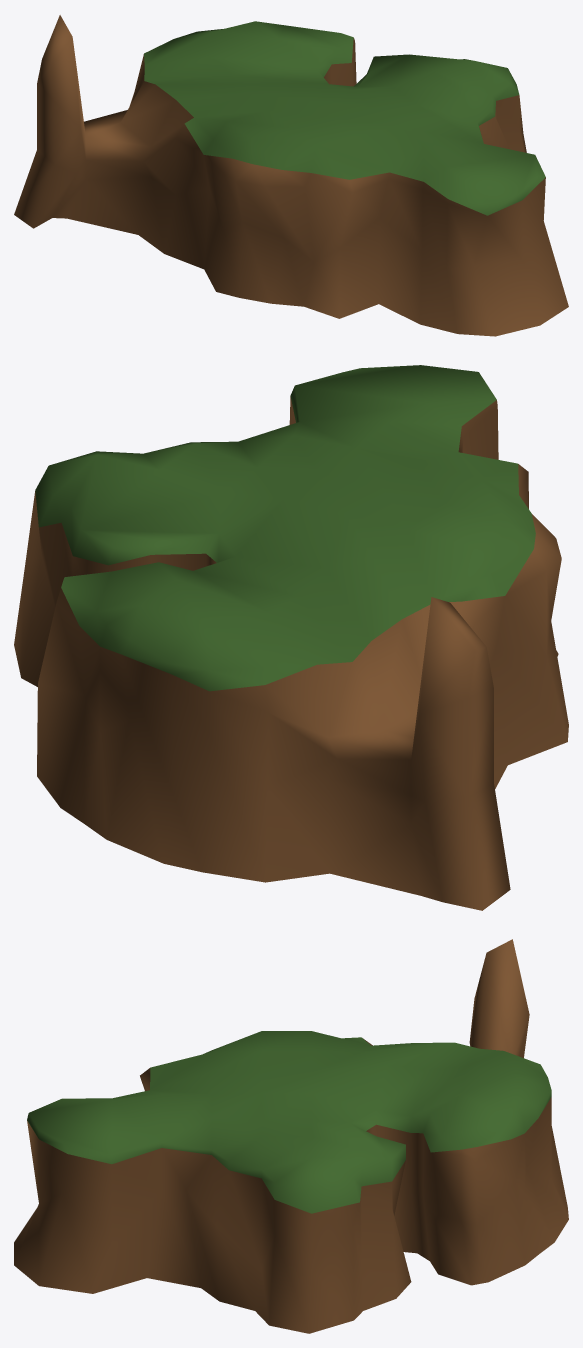
The model's file is Island01.fbx.
3 renders of one model, top to bottom at view 1: azimuth 30°, elevation 25°; view 2: azimuth 150°, elevation 25°; view 3: azimuth 270°, elevation 25°, orthographic. The views are drawn at different scales.
Visible parts, largest first — view 1: Island01_Cliffside, Island01_Grass; view 2: Island01_Cliffside, Island01_Grass; view 3: Island01_Cliffside, Island01_Grass.
Boxes of the visible parts, x1,y1,x2,y2 form: Island01_Cliffside: [14, 15, 568, 336]; Island01_Grass: [144, 21, 545, 215]; Island01_Cliffside: [14, 396, 568, 910]; Island01_Grass: [35, 365, 535, 691]; Island01_Cliffside: [14, 939, 568, 1333]; Island01_Grass: [27, 1031, 551, 1213].
Bounding box in the file's own units: 100 × 44.98 × 111.
